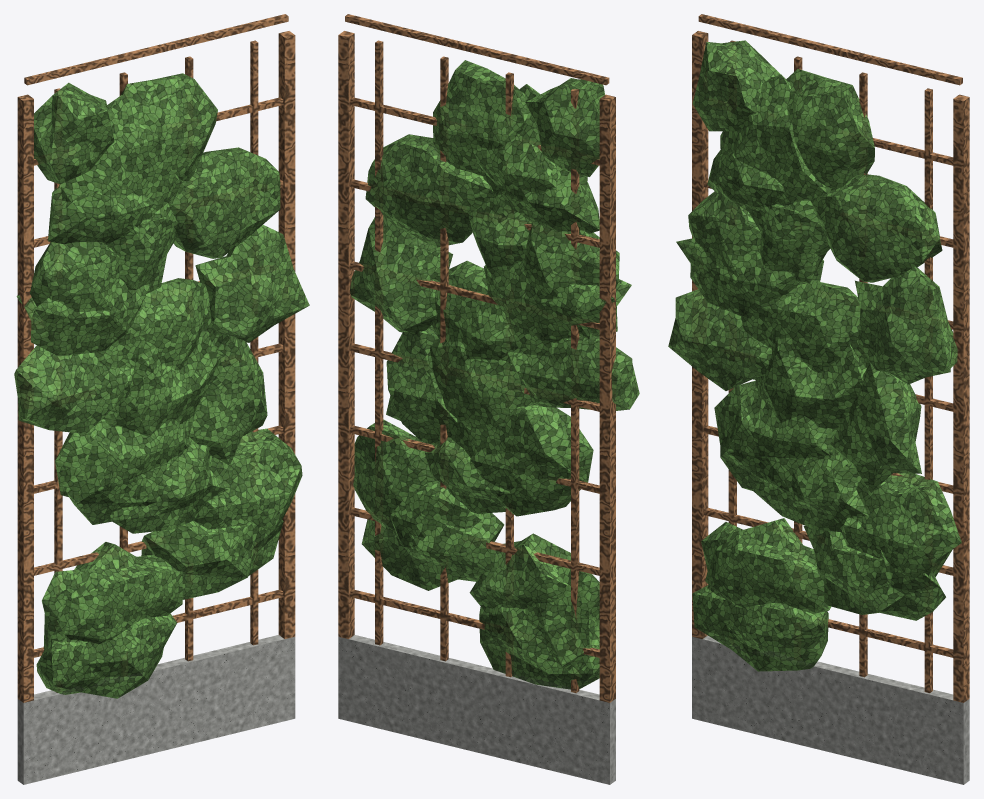
3 renders of one model, left to right at view 1: azimuth 30°, elevation 25°; view 2: azimuth 150°, elevation 25°; view 3: azimuth 330°, elevation 25°, orthographic.
Parts seen in each view (by area): view 1: baseOffset=0;depth=0.2;height=2.5;material=foliage;power=;se (×3); view 2: baseOffset=0;depth=0.2;height=2.5;material=foliage;power=;se (×3); view 3: baseOffset=0;depth=0.2;height=2.5;material=foliage;power=;se (×3).
Part boxes in pixels (left/top/right/bottom): baseOffset=0;depth=0.2;height=2.5;material=foliage;power=;se (×3): left=14, top=14, right=309, bottom=784; baseOffset=0;depth=0.2;height=2.5;material=foliage;power=;se (×3): left=338, top=14, right=639, bottom=784; baseOffset=0;depth=0.2;height=2.5;material=foliage;power=;se (×3): left=668, top=14, right=969, bottom=784.
Size of the model in its own units: 1.1 by 0.2461 by 2.57.
3 materials, 3 textured.
